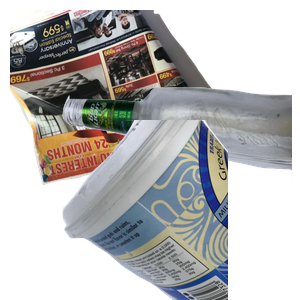glass: (60, 84, 300, 260)
paper: (10, 10, 241, 188)
plastic: (60, 120, 300, 300)
trash: (96, 145, 295, 300)
